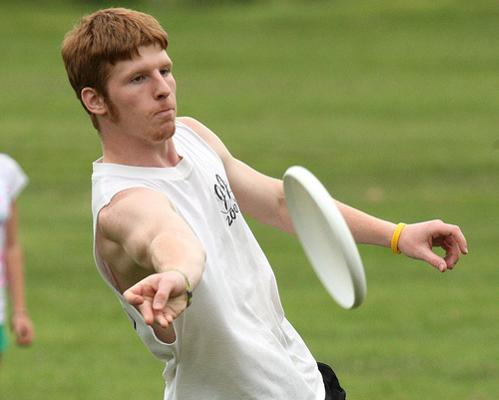person: (60, 7, 469, 400)
